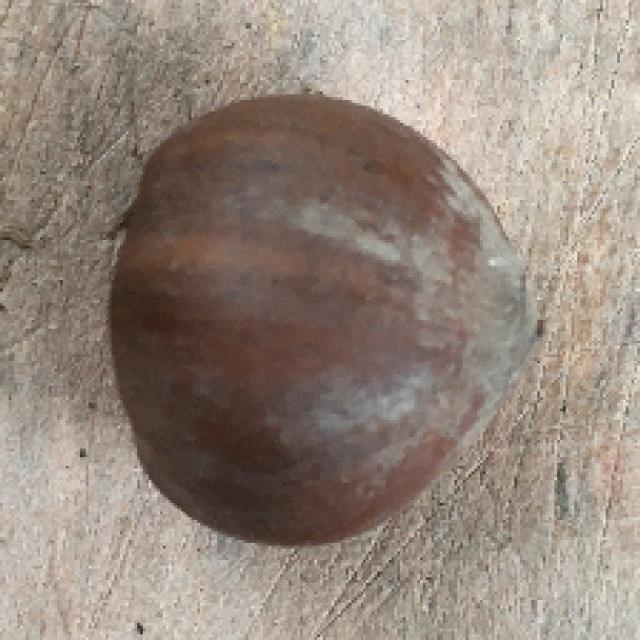damagedHazelnut: (110, 80, 542, 550)
